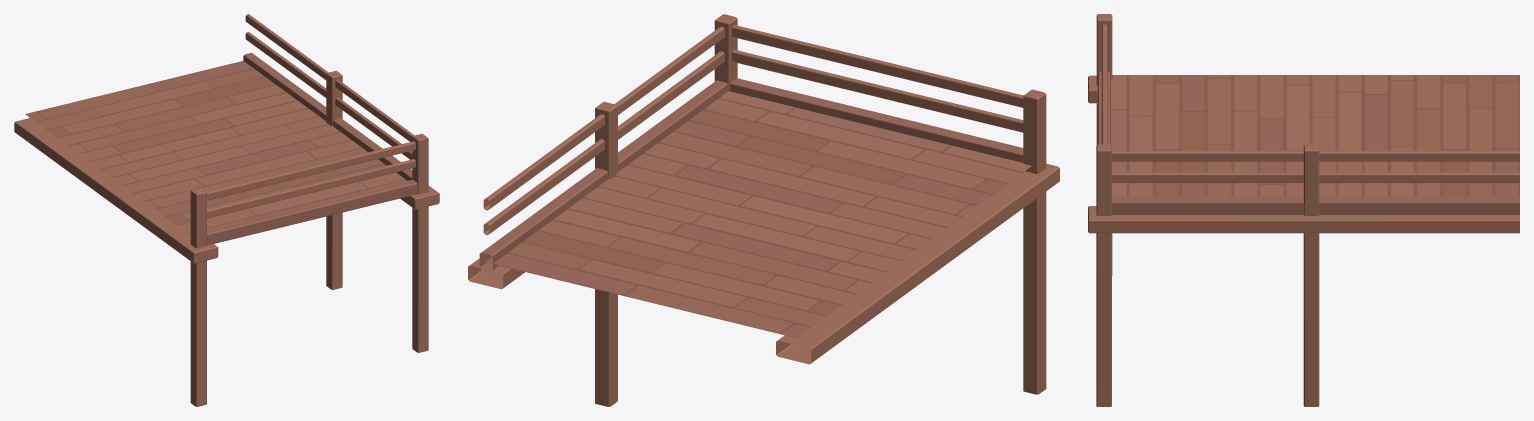
The model's file is BoardWalkCorner2Left.fbx.
3 views of the same model, side by side, from view 1: azimuth 30°, elevation 25°; view 2: azimuth 150°, elevation 25°; view 3: azimuth 270°, elevation 25° (orthographic). The views are drawn at different scales.
Parts seen in each view (by area): view 1: BoardWalkCorner2Left; view 2: BoardWalkCorner2Left; view 3: BoardWalkCorner2Left.
Part boxes in pixels (x1,y1,x2,y2): BoardWalkCorner2Left: [14, 14, 439, 406]; BoardWalkCorner2Left: [468, 14, 1059, 406]; BoardWalkCorner2Left: [1088, 14, 1519, 406].
Size of the model in its own units: 657 by 542 by 827.
